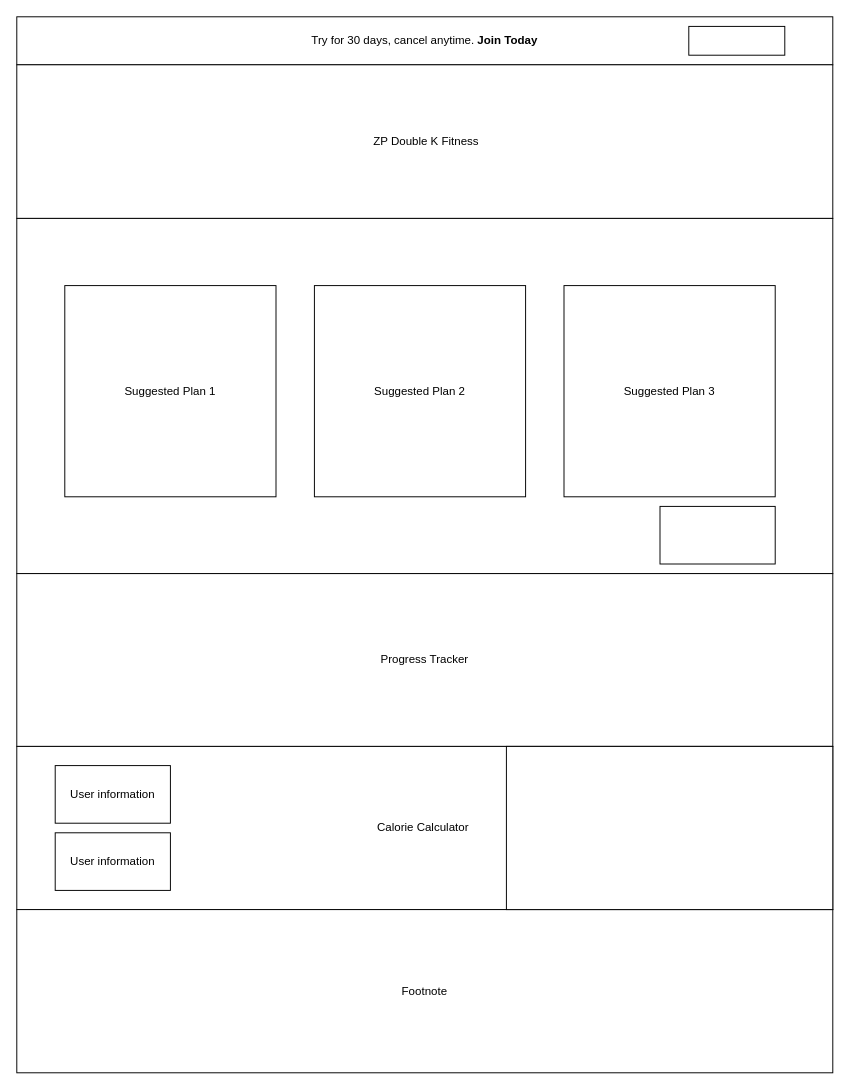
This 850x1090 diagram has some shape labels left out. The centre of each missing label's shape, as x and y in pixels:
Create your own: [717,534]
Hyperlink to Nutritious Website: [669,827]
Log in: [736,40]
